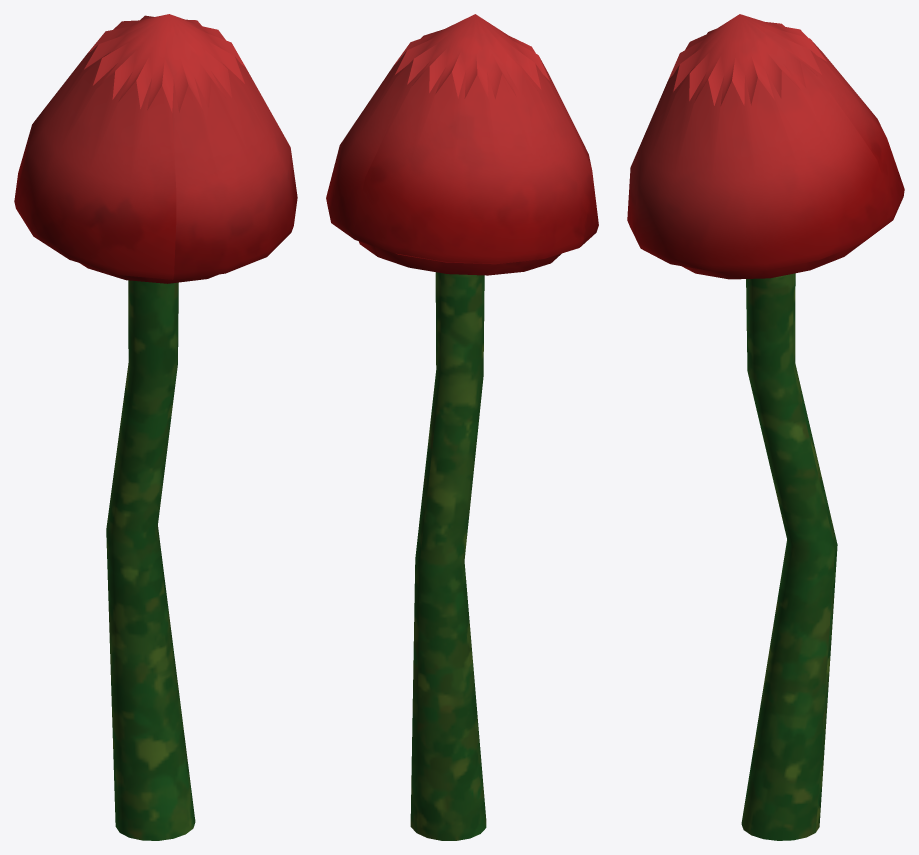
The model's file is Sm_Flowers4.fbx.
3 renders of one model, left to right at view 1: azimuth 30°, elevation 25°; view 2: azimuth 150°, elevation 25°; view 3: azimuth 270°, elevation 25°, orthographic. The views are drawn at different scales.
Parts seen in each view (by area): view 1: Sm_Flowers4; view 2: Sm_Flowers4; view 3: Sm_Flowers4.
Boxes of the visible parts, x1,y1,x2,y2 form: Sm_Flowers4: (14, 14, 297, 840); Sm_Flowers4: (326, 14, 598, 840); Sm_Flowers4: (627, 14, 904, 840).
Bounding box in the file's own units: 14.28 × 45.63 × 14.18.
